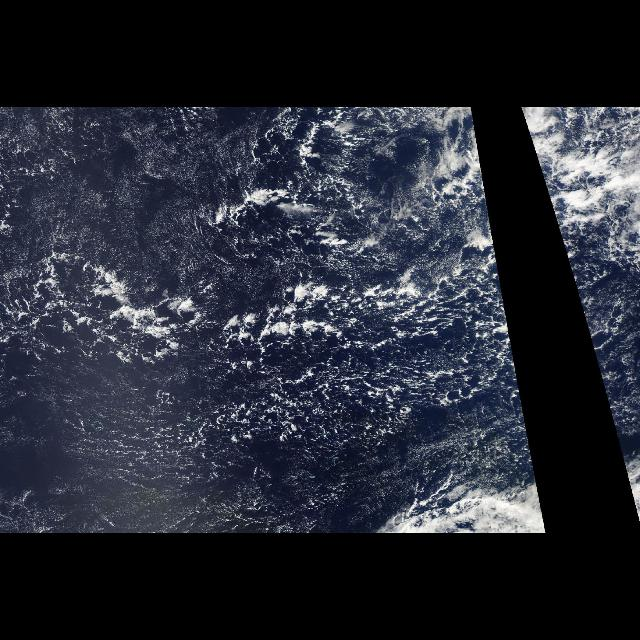Gravel: (2, 108, 534, 482), (520, 107, 640, 459)
Sugar: (6, 349, 368, 533), (4, 108, 234, 286)
